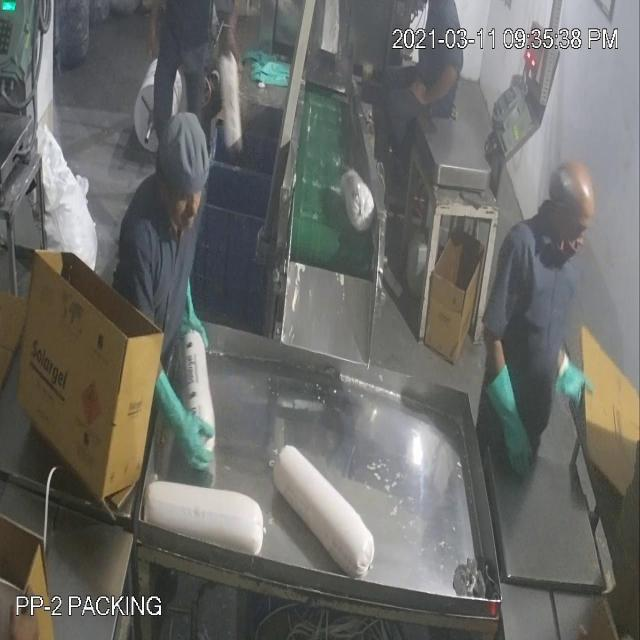No_Gloves: (31, 34, 515, 430)
